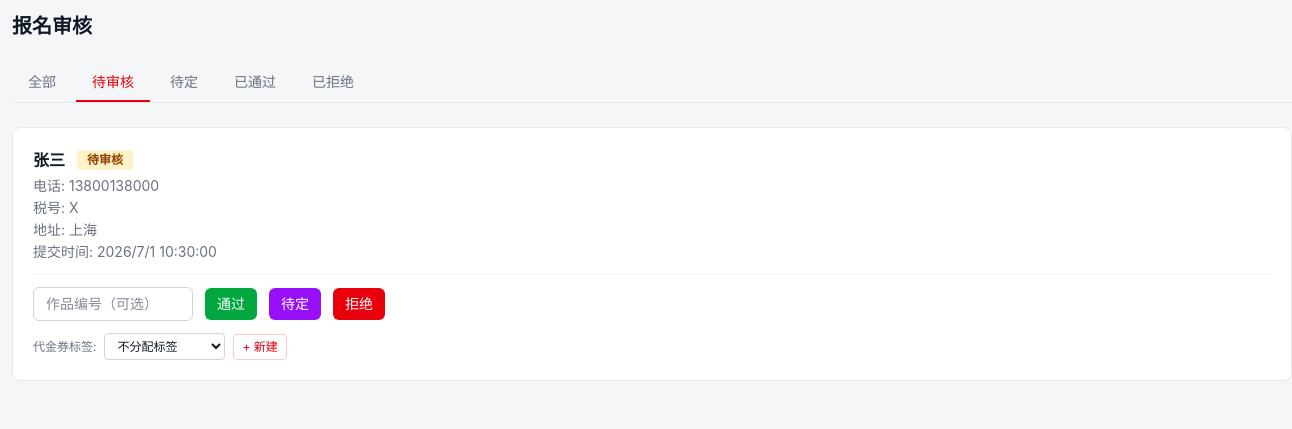
Admin Review — 作品审核页 › UI-REV-003 — 拒绝按钮点击显示拒绝原因框
The width and height of the screenshot is (1292, 429).
Click the button "拒绝": (359, 304) top-left (333, 288), bottom-right (385, 320)
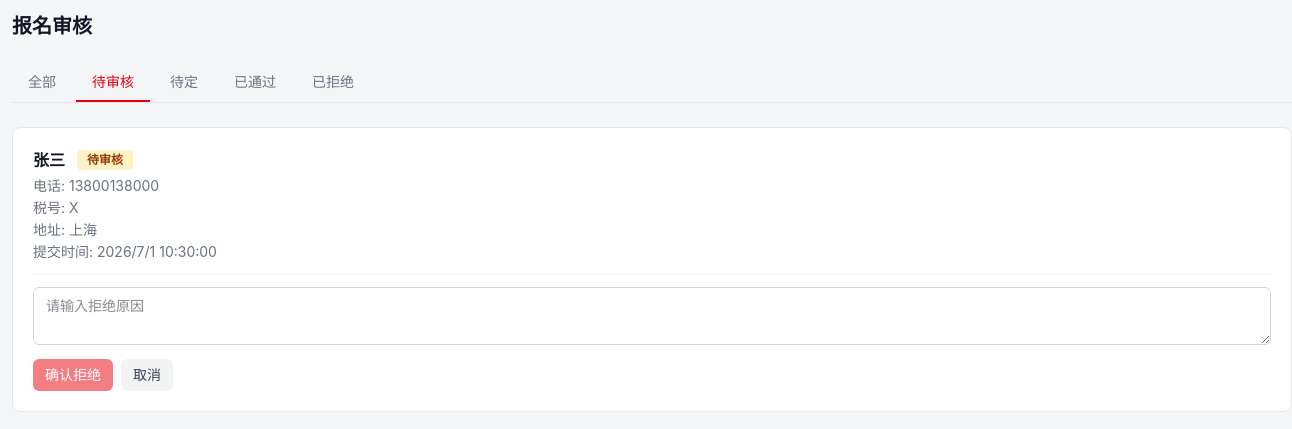
Now the text "确认拒绝" is shown, box top-left (33, 359), bottom-right (113, 391)
